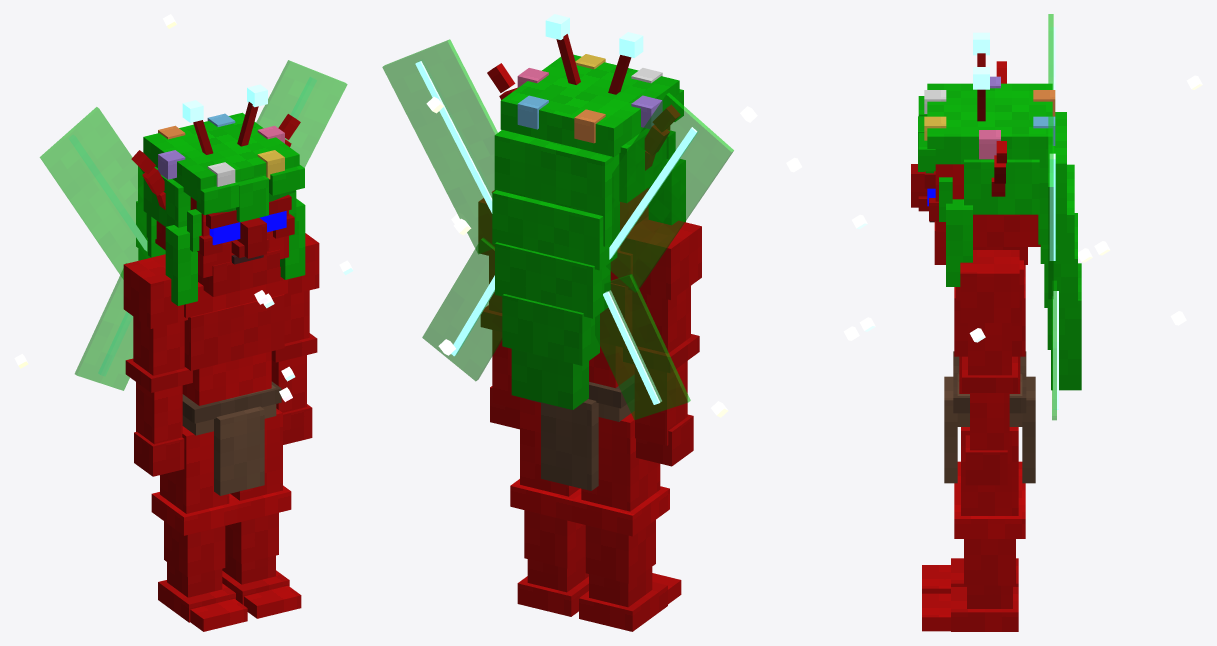
Rendered from fairy_s1.glb.
3 renders of one model, left to right at view 1: azimuth 30°, elevation 25°; view 2: azimuth 150°, elevation 25°; view 3: azimuth 270°, elevation 25°, orthographic. The views are drawn at different scales.
Parts seen in each view (by area): view 1: Torso, Head, LegR, ArmR, LegL, ArmL; view 2: Head, Torso, LegR, ArmR, LegL, ArmL; view 3: Head, ArmL, LegL, Torso, LegR.
Part boxes in pixels (bbox=[...]): Torso: bbox=[14, 14, 353, 495]; Head: bbox=[131, 84, 305, 305]; LegR: bbox=[151, 426, 247, 631]; ArmR: bbox=[123, 254, 192, 476]; LegL: bbox=[222, 408, 301, 618]; ArmL: bbox=[271, 233, 319, 444]; Head: bbox=[487, 14, 685, 409]; Torso: bbox=[382, 39, 757, 490]; LegR: bbox=[571, 411, 681, 631]; ArmR: bbox=[620, 216, 701, 466]; LegL: bbox=[510, 397, 588, 616]; ArmL: bbox=[478, 190, 519, 429]; Head: bbox=[911, 32, 1081, 390]; ArmL: bbox=[960, 250, 1019, 485]; LegL: bbox=[922, 427, 1025, 631]; Torso: bbox=[786, 14, 1202, 483]; LegR: bbox=[922, 461, 1025, 593].
Size of the model in its own units: 0.7287 by 1.11 by 0.7622.
Materials: 35 (35 with a texture image).
